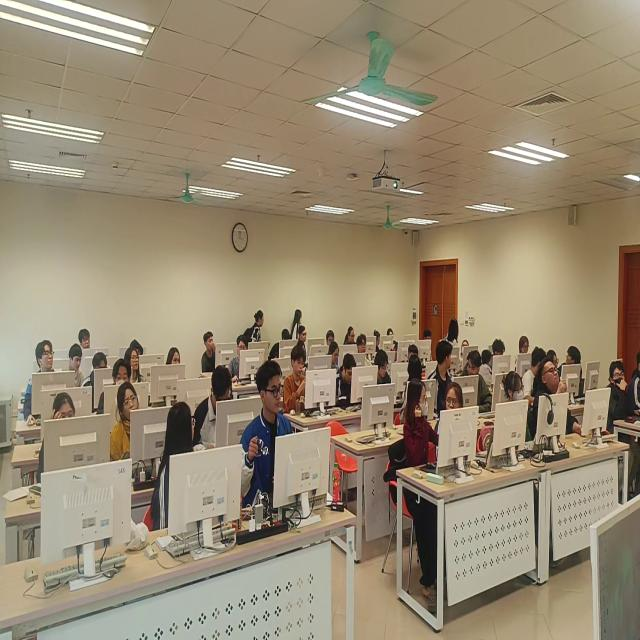raise_head: (236, 361, 291, 493), (22, 337, 56, 427), (537, 356, 573, 438), (111, 381, 141, 467), (502, 369, 532, 449), (606, 357, 631, 431), (200, 326, 219, 375), (125, 344, 141, 380), (77, 325, 96, 352), (166, 348, 184, 375), (356, 333, 368, 355), (461, 338, 470, 360)
stand: (247, 306, 266, 349), (291, 306, 304, 346), (447, 314, 459, 354)
using_computer: (38, 391, 79, 484), (195, 363, 234, 452), (98, 357, 132, 416), (338, 352, 359, 405), (63, 341, 86, 388), (84, 347, 109, 390), (267, 328, 292, 363), (230, 333, 247, 381), (377, 347, 393, 387), (491, 338, 508, 375), (328, 341, 342, 371), (424, 329, 435, 363), (518, 333, 531, 357), (345, 324, 357, 349), (327, 330, 337, 347), (374, 330, 380, 352), (387, 326, 397, 338)
using_phone: (284, 341, 309, 417)
